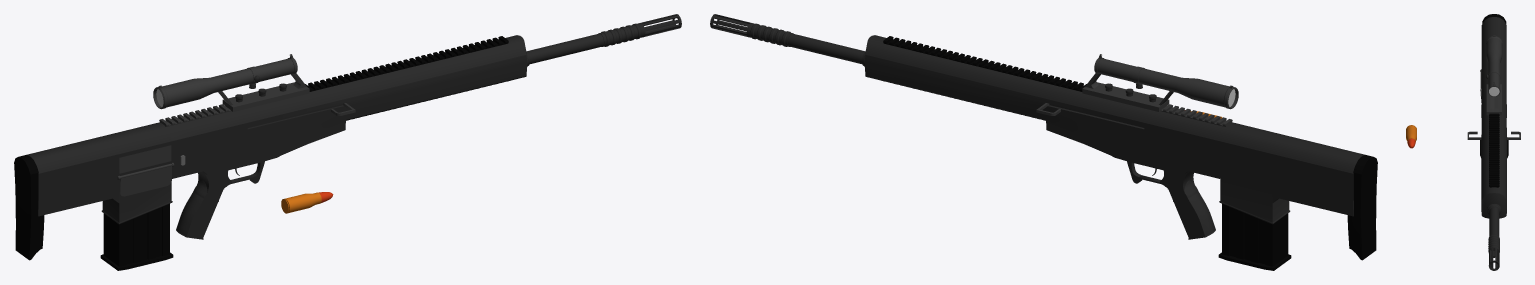
Rendered from Assault_DMR.obj.
3 renders of one model, left to right at view 1: azimuth 30°, elevation 25°; view 2: azimuth 150°, elevation 25°; view 3: azimuth 270°, elevation 25°, orthographic. The views are drawn at different scales.
Visible parts, largest first — view 1: pCube1_Mesh.039, pCube34_Mesh.069, pCylinder13_Mesh.059, pCube3_Mesh.041, pCube12_Mesh.050, pCube4_Mesh.042, pCube2_Mesh.040, pCube16_Mesh.054, pCylinder7_Mesh.052, pCube11_Mesh.049, pCube33_Mesh.068, pCylinder25_Mesh.066 (+4 smaller); view 2: pCube1_Mesh.039, pCube34_Mesh.069, pCylinder13_Mesh.059, pCube3_Mesh.041, pCube2_Mesh.040, pCube12_Mesh.050, pCube4_Mesh.042, pCube16_Mesh.054, pCylinder7_Mesh.052, pCylinder25_Mesh.066, pCube31_Mesh.055, pCube5_Mesh.043 (+1 smaller); view 3: pCube1_Mesh.039, pCube12_Mesh.050, pCylinder13_Mesh.059, pCylinder7_Mesh.052, pCube16_Mesh.054, pCylinder25_Mesh.066, pCube35_Mesh.070, pCylinder19_Mesh.064, pCube3_Mesh.041, pSphere3_Mesh.073.
Part boxes in pixels (<box>): pCube1_Mesh.039: <box>27,35,526,216</box>; pCube34_Mesh.069: <box>103,203,169,266</box>; pCylinder13_Mesh.059: <box>153,58,297,109</box>; pCube3_Mesh.041: <box>14,155,44,260</box>; pCube12_Mesh.050: <box>305,36,508,91</box>; pCube4_Mesh.042: <box>176,180,223,239</box>; pCube2_Mesh.040: <box>101,182,172,224</box>; pCube16_Mesh.054: <box>218,73,309,111</box>; pCylinder7_Mesh.052: <box>526,33,603,66</box>; pCube11_Mesh.049: <box>119,166,171,196</box>; pCube33_Mesh.068: <box>119,145,171,173</box>; pCylinder25_Mesh.066: <box>625,14,681,40</box>; pCube1_Mesh.039: <box>865,35,1364,216</box>; pCube34_Mesh.069: <box>1222,203,1288,266</box>; pCylinder13_Mesh.059: <box>1094,58,1238,109</box>; pCube3_Mesh.041: <box>1347,155,1377,260</box>; pCube2_Mesh.040: <box>1219,177,1290,224</box>; pCube12_Mesh.050: <box>883,36,1086,91</box>; pCube4_Mesh.042: <box>1168,180,1215,239</box>; pCube16_Mesh.054: <box>1082,73,1173,111</box>; pCylinder7_Mesh.052: <box>788,33,865,66</box>; pCylinder25_Mesh.066: <box>710,14,766,40</box>; pCube31_Mesh.055: <box>1160,104,1232,126</box>; pCube5_Mesh.043: <box>1167,171,1194,193</box>; pCube1_Mesh.039: <box>1481,17,1506,218</box>; pCube12_Mesh.050: <box>1489,113,1499,187</box>; pCylinder13_Mesh.059: <box>1486,36,1502,96</box>; pCylinder7_Mesh.052: <box>1487,204,1501,236</box>; pCube16_Mesh.054: <box>1486,84,1501,115</box>; pCylinder25_Mesh.066: <box>1488,242,1499,270</box>; pCube35_Mesh.070: <box>1467,131,1520,139</box>; pCylinder19_Mesh.064: <box>1406,125,1416,142</box>; pCube3_Mesh.041: <box>1482,14,1506,23</box>; pSphere3_Mesh.073: <box>1489,87,1499,96</box>.
Bounding box in the file's own units: 30.05 × 7.26 × 6.2.
